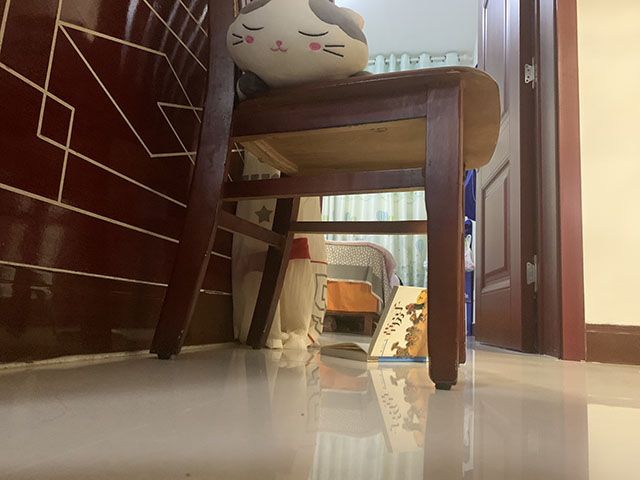book: (319, 283, 428, 363)
stool: (148, 1, 501, 392)
